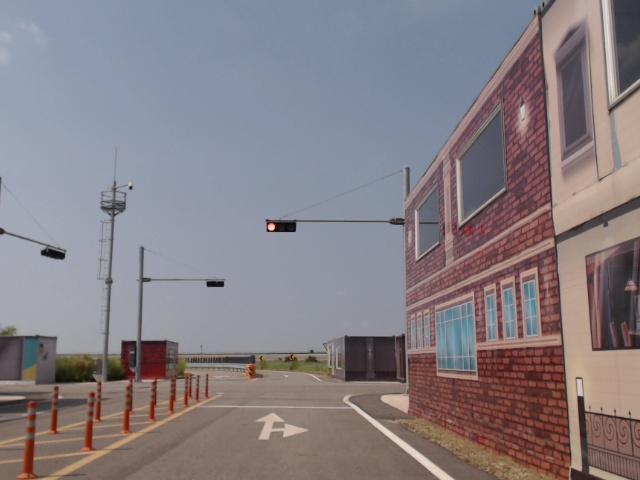red_3: (266, 221, 296, 233)
